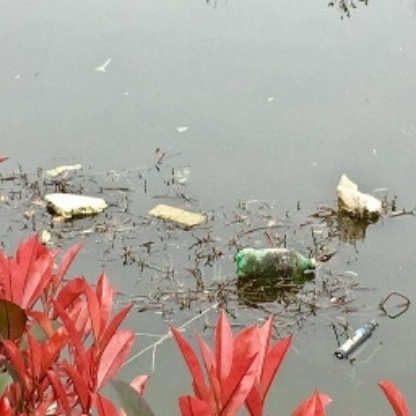bottle: (234, 244, 316, 283), (331, 315, 381, 363)
plastic-garbage: (332, 172, 389, 226), (43, 191, 109, 220)
